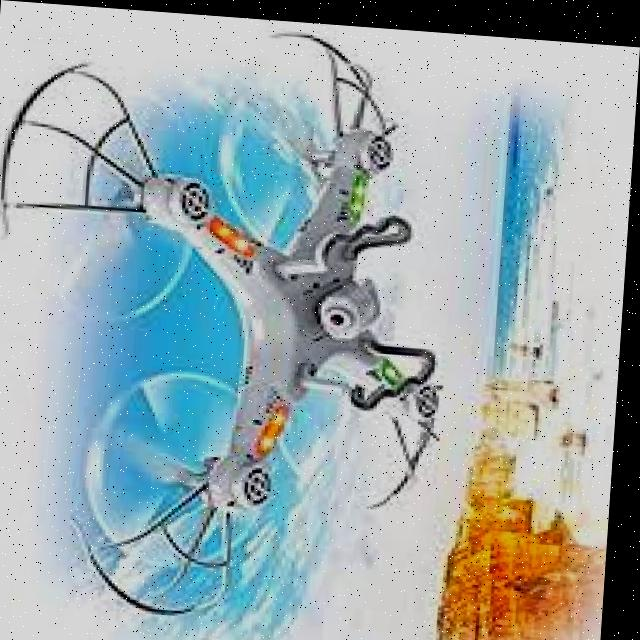drone: (0, 1, 486, 638)
